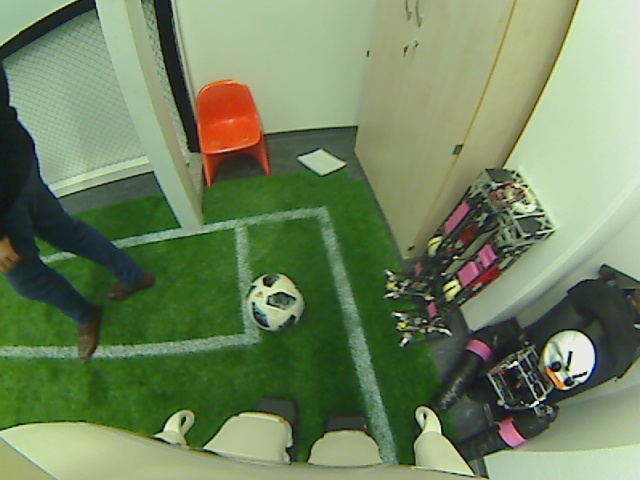ball: (245, 272, 306, 334)
